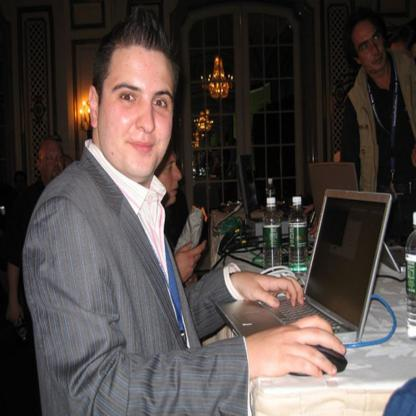board: (215, 184, 394, 348), (287, 198, 309, 282), (405, 206, 416, 340), (263, 197, 282, 274), (267, 179, 275, 195)
